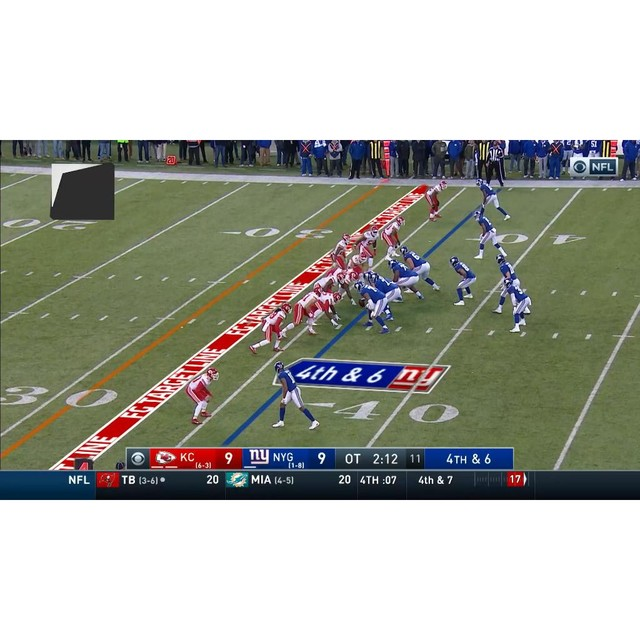american-football-player: (272, 361, 319, 430), (281, 286, 324, 338), (248, 303, 291, 354), (398, 245, 441, 292), (186, 368, 219, 425), (385, 256, 425, 302), (474, 209, 508, 260), (355, 285, 391, 333), (494, 253, 521, 313), (475, 177, 511, 221), (504, 278, 532, 334), (449, 256, 476, 304), (364, 270, 402, 302), (379, 215, 405, 258), (312, 291, 342, 328), (332, 268, 360, 306), (328, 234, 351, 275), (425, 179, 448, 220), (347, 140, 365, 180)
referee: (484, 140, 507, 188)
